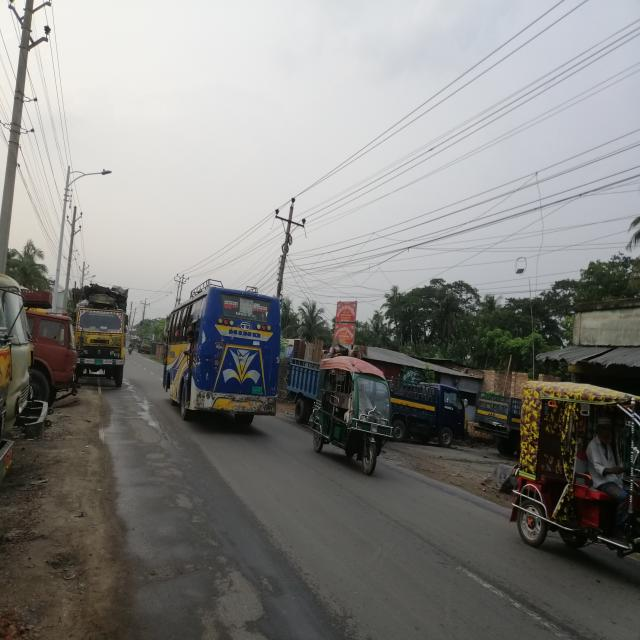Bus: (154, 274, 294, 449)
Easybike: (498, 367, 640, 592), (308, 344, 404, 494)
Pick-up-van: (372, 366, 480, 478)
Truck: (10, 296, 108, 424), (62, 277, 145, 404)
